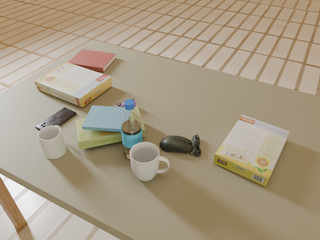book: (76, 106, 145, 149), (82, 106, 125, 132), (68, 49, 116, 72)
bottle: (121, 99, 143, 159)
box: (214, 115, 289, 186), (35, 62, 112, 107)
cup: (129, 142, 170, 181), (38, 126, 66, 159)
mouse: (160, 134, 201, 156)
phone: (36, 107, 76, 130)
toy_car: (116, 99, 136, 108)
